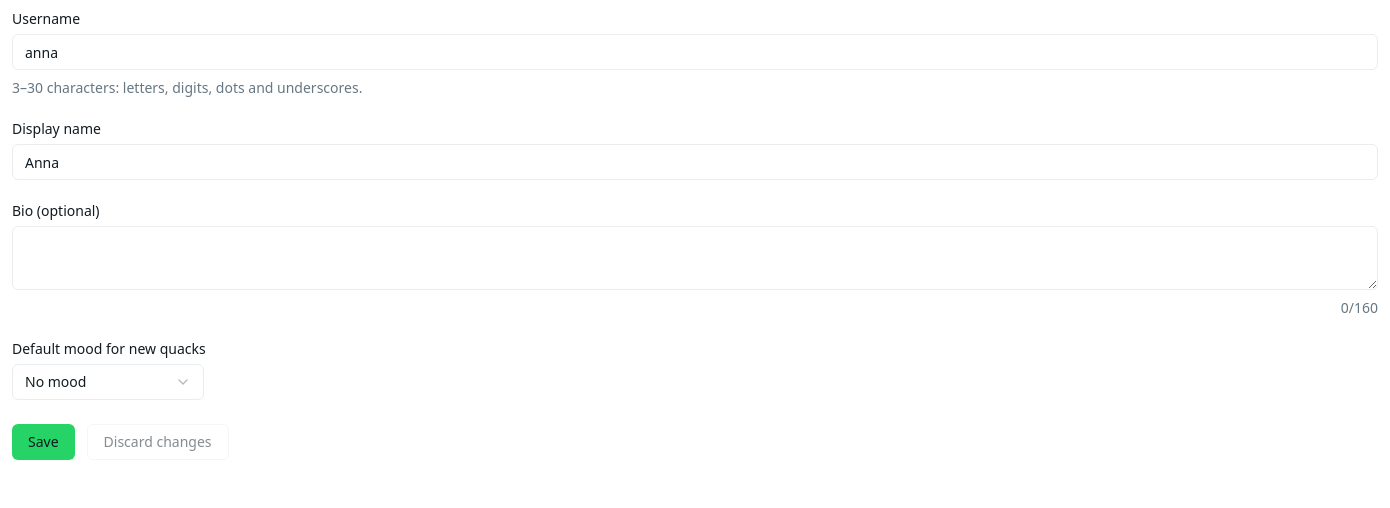
Test case: ProfileForm › shows a taken username next to the field and keeps what was typed
Replace the text in the field labelled "Username" with "duck" at [695, 52], box [12, 34, 1378, 70]
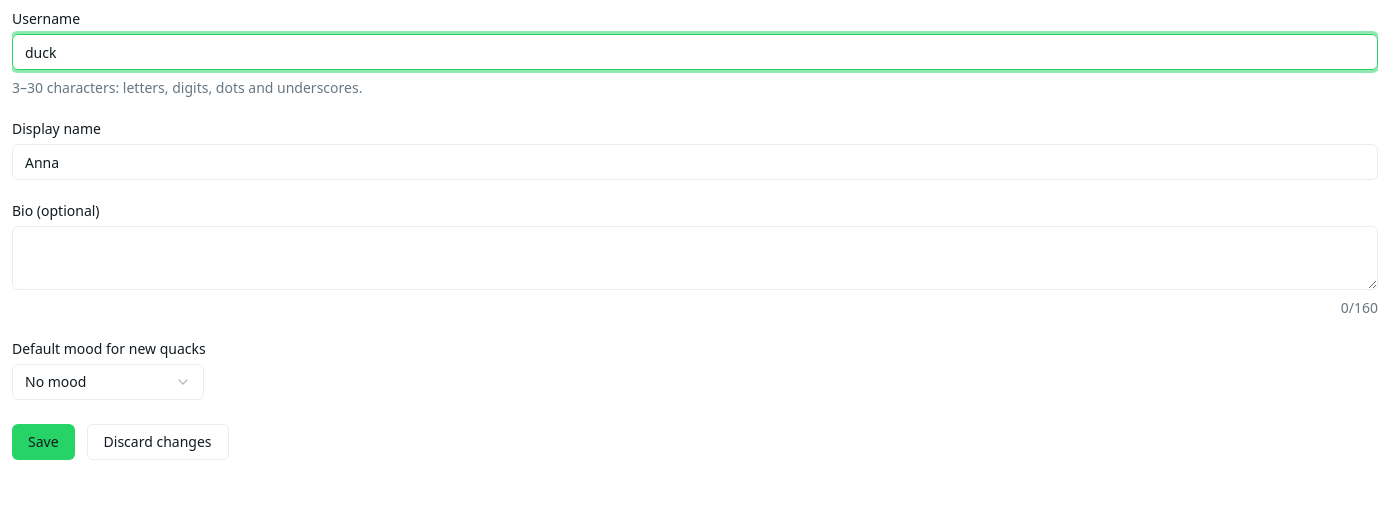
Click the button "Save" at [43, 442], box [12, 424, 75, 460]
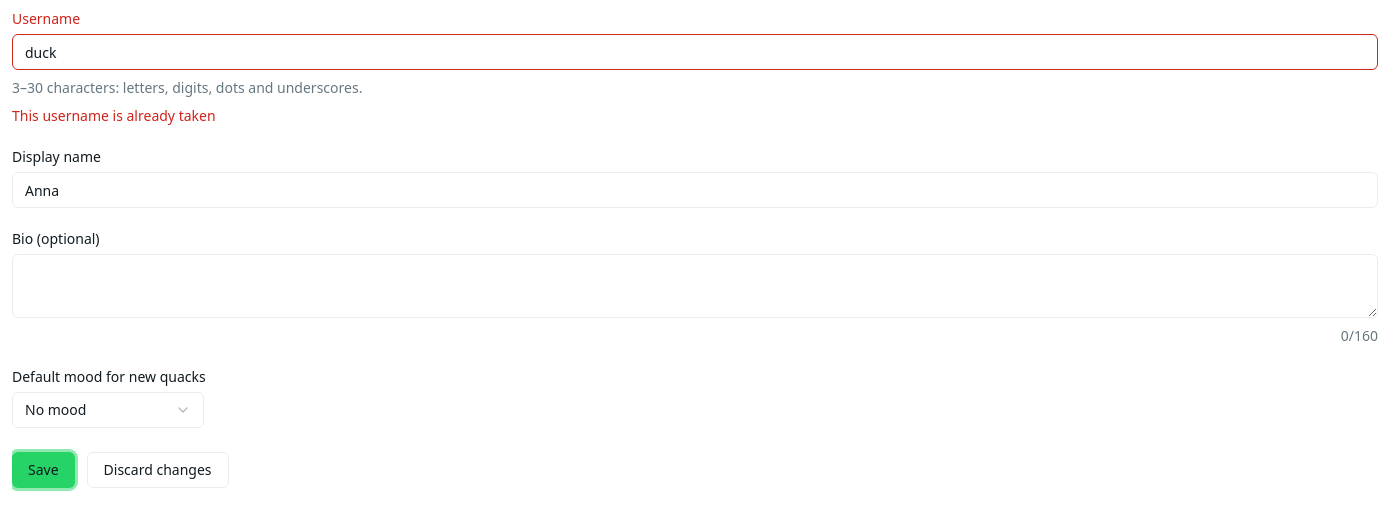
Expected: the text "This username is already taken" is shown, [12, 106, 216, 125]
